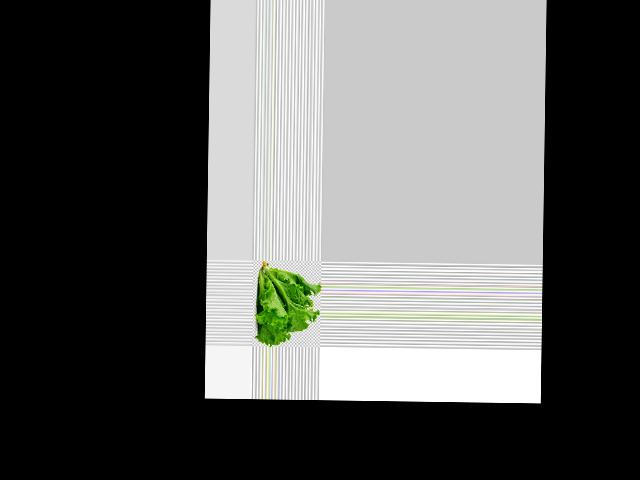lettuce: (257, 260, 320, 346)
